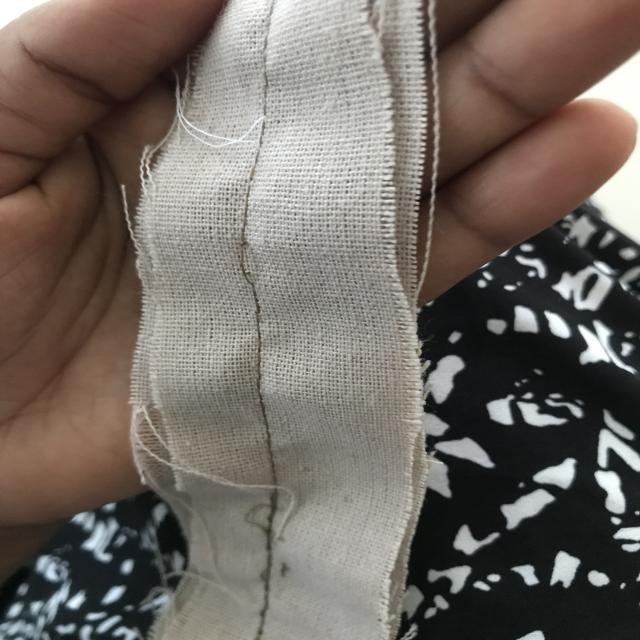skip: (219, 230, 274, 300)
